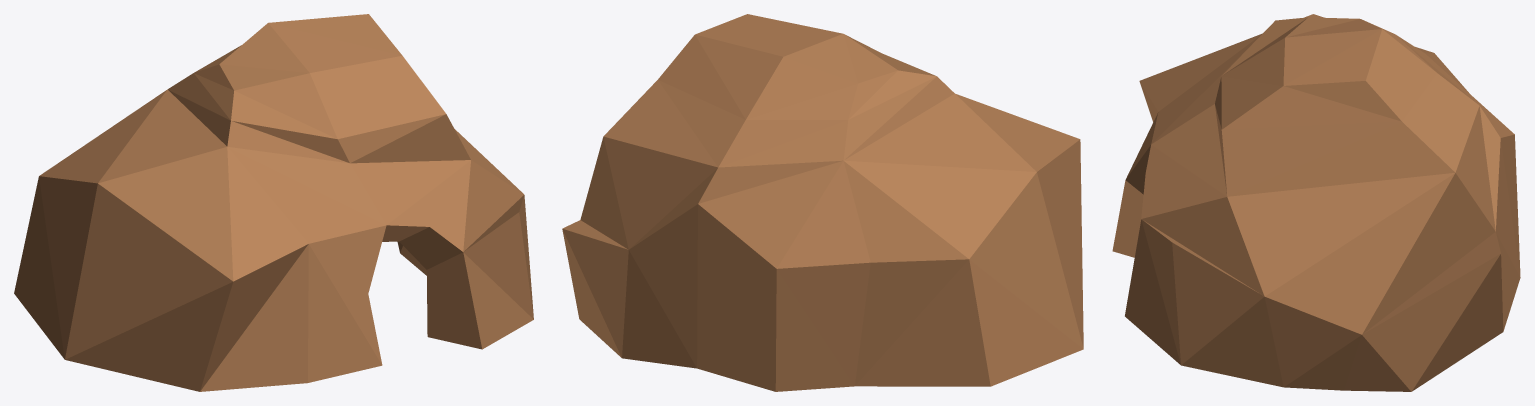
Rendered from Cave.fbx.
3 views of the same model, side by side, from view 1: azimuth 30°, elevation 25°; view 2: azimuth 150°, elevation 25°; view 3: azimuth 270°, elevation 25° (orthographic). The views are drawn at different scales.
Visible parts, largest first — view 1: Cave; view 2: Cave; view 3: Cave.
Part boxes in pixels (x1,y1,x2,y2): Cave: (14,14,533,391); Cave: (562,14,1083,391); Cave: (1112,14,1520,391).
Bounding box in the file's own units: 802 × 645 × 483.
